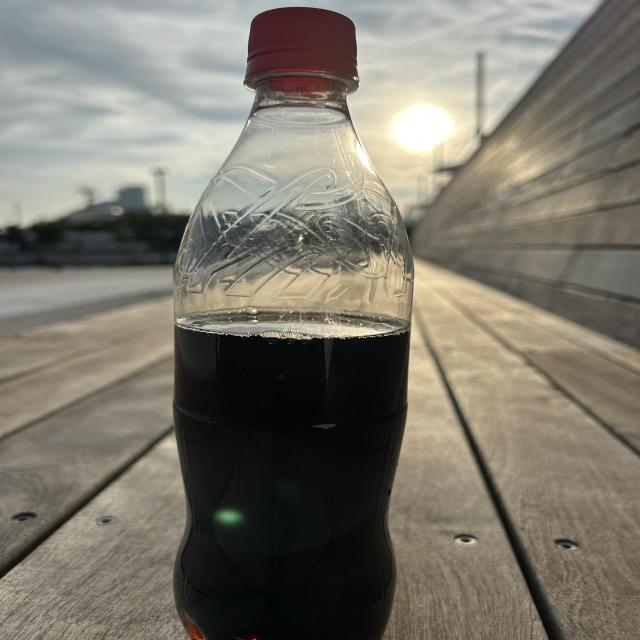medium: (173, 8, 412, 640)
